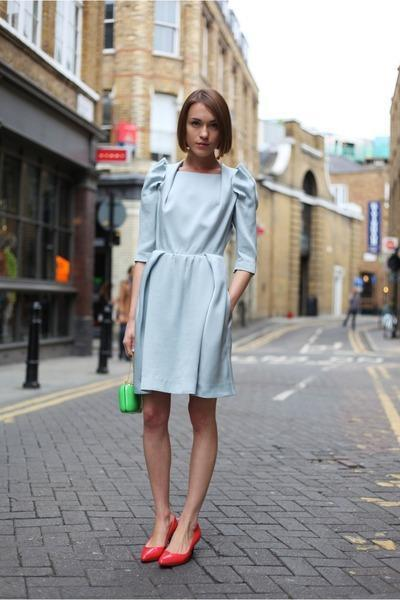dress: (122, 156, 256, 397)
shoe: (141, 521, 207, 569)
